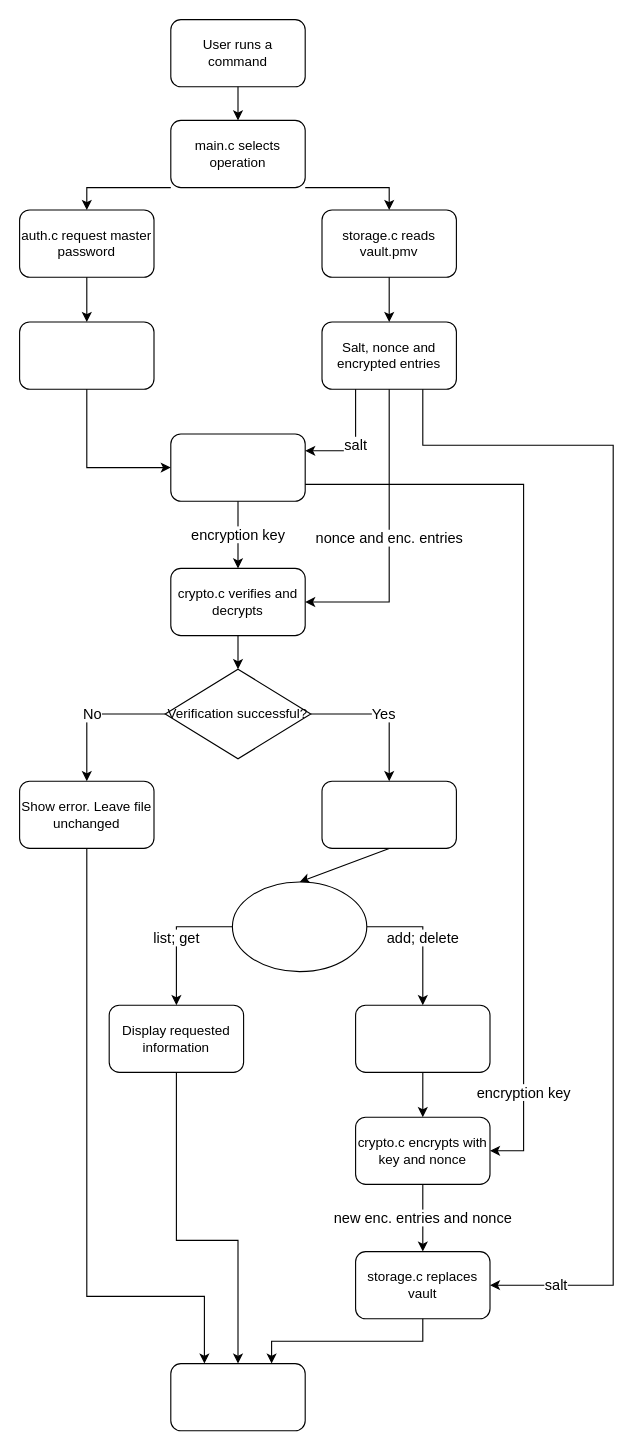
Some shapes in this 642 by 1450 pixel diagram are drawn without their labels. Here are the shapes that lost their labels. From the top down, the centre of each, then its label:
the point at 86,355: Master password in memory
the point at 237,467: crypto.c derives key using Argon2id
the point at 388,814: main.c: readable entries in memory
the point at 299,926: Requested operation
the point at 422,1038: Modify entries in memory
the point at 237,1396: Clear secret buffer and exit
